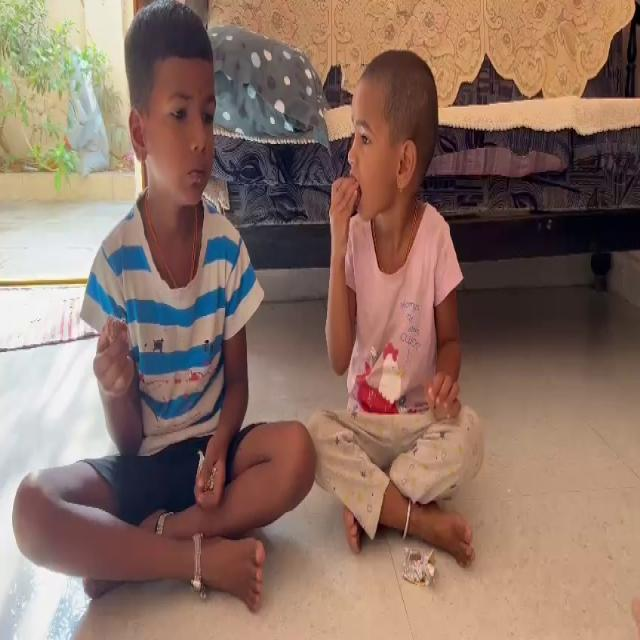child: (23, 0, 270, 596), (311, 30, 506, 618)
